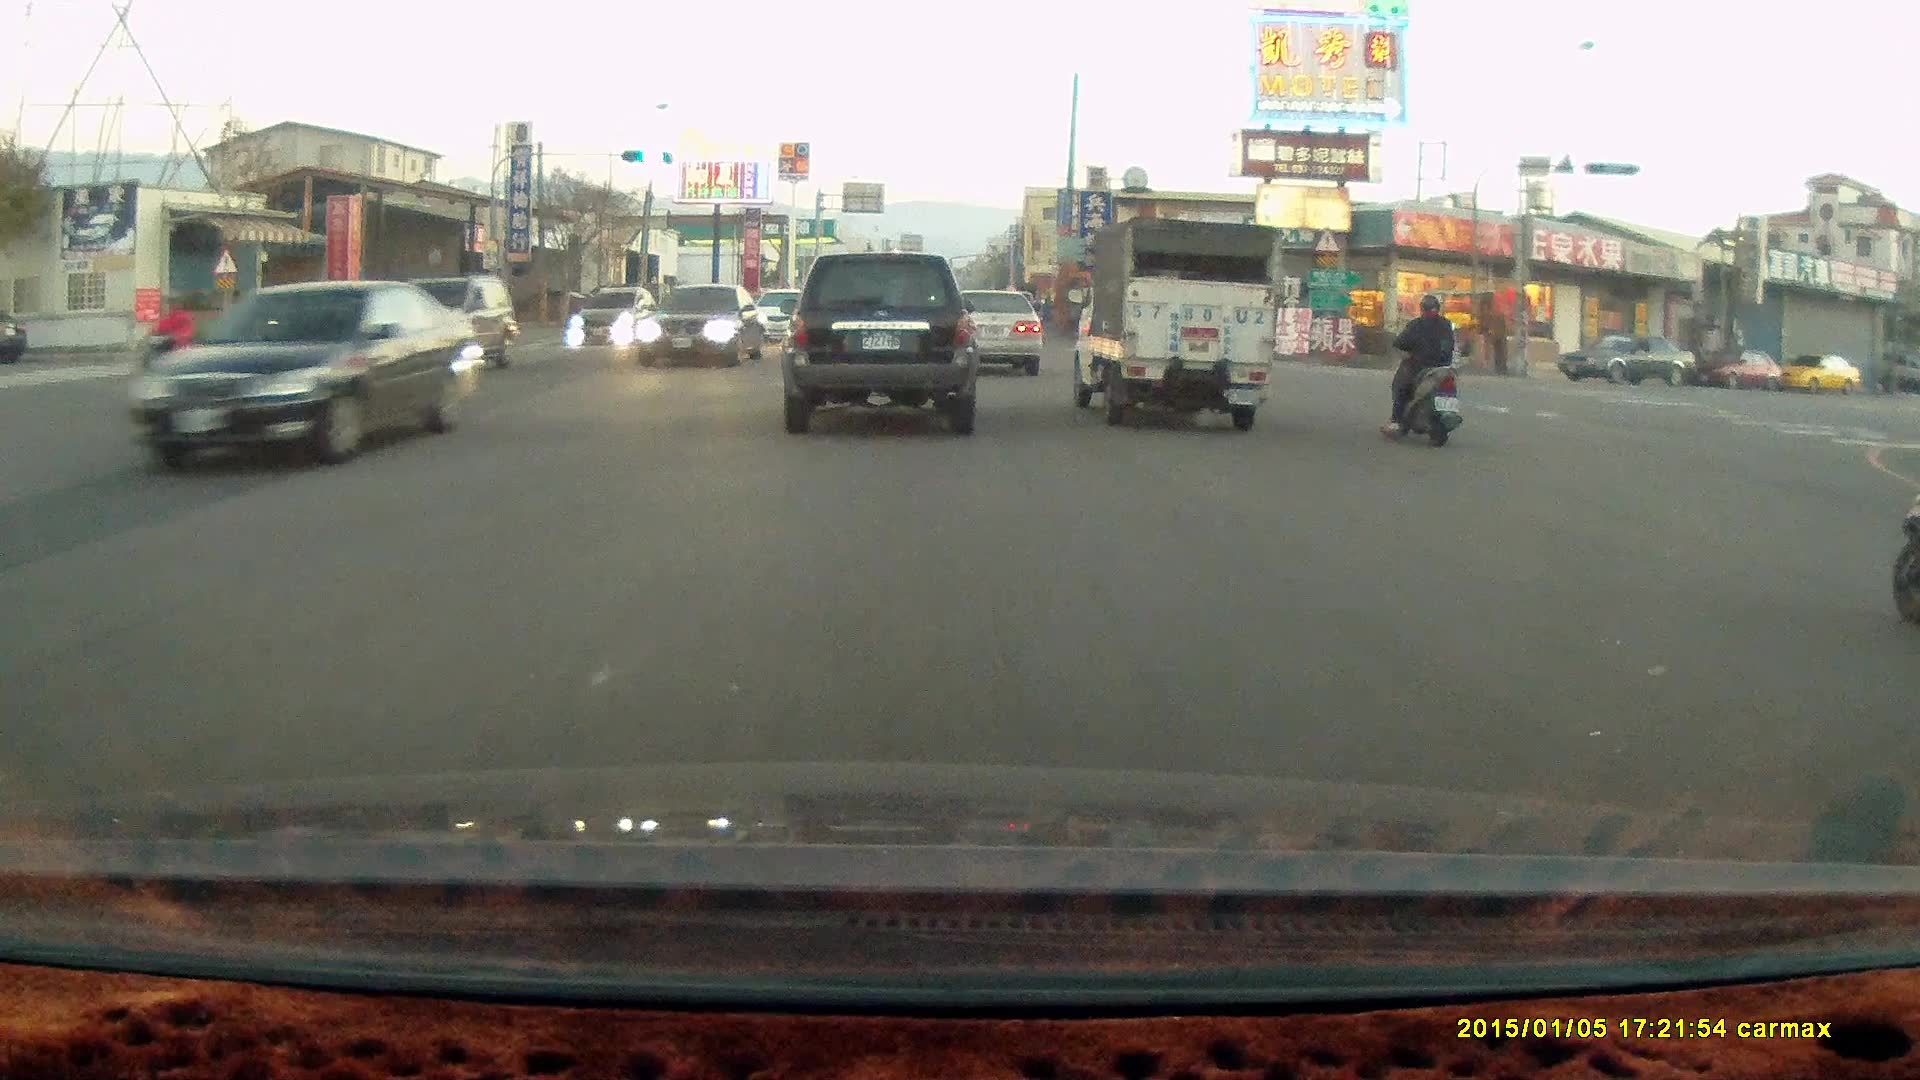rider: (1383, 293, 1462, 449), (134, 291, 199, 398)
vehicle: (123, 284, 481, 480), (1065, 213, 1283, 431), (779, 250, 977, 436), (638, 287, 770, 373), (930, 286, 1043, 379), (947, 289, 1046, 380), (1556, 332, 1702, 389), (357, 292, 467, 339), (575, 288, 657, 347), (1772, 356, 1864, 397), (1697, 350, 1786, 390)
